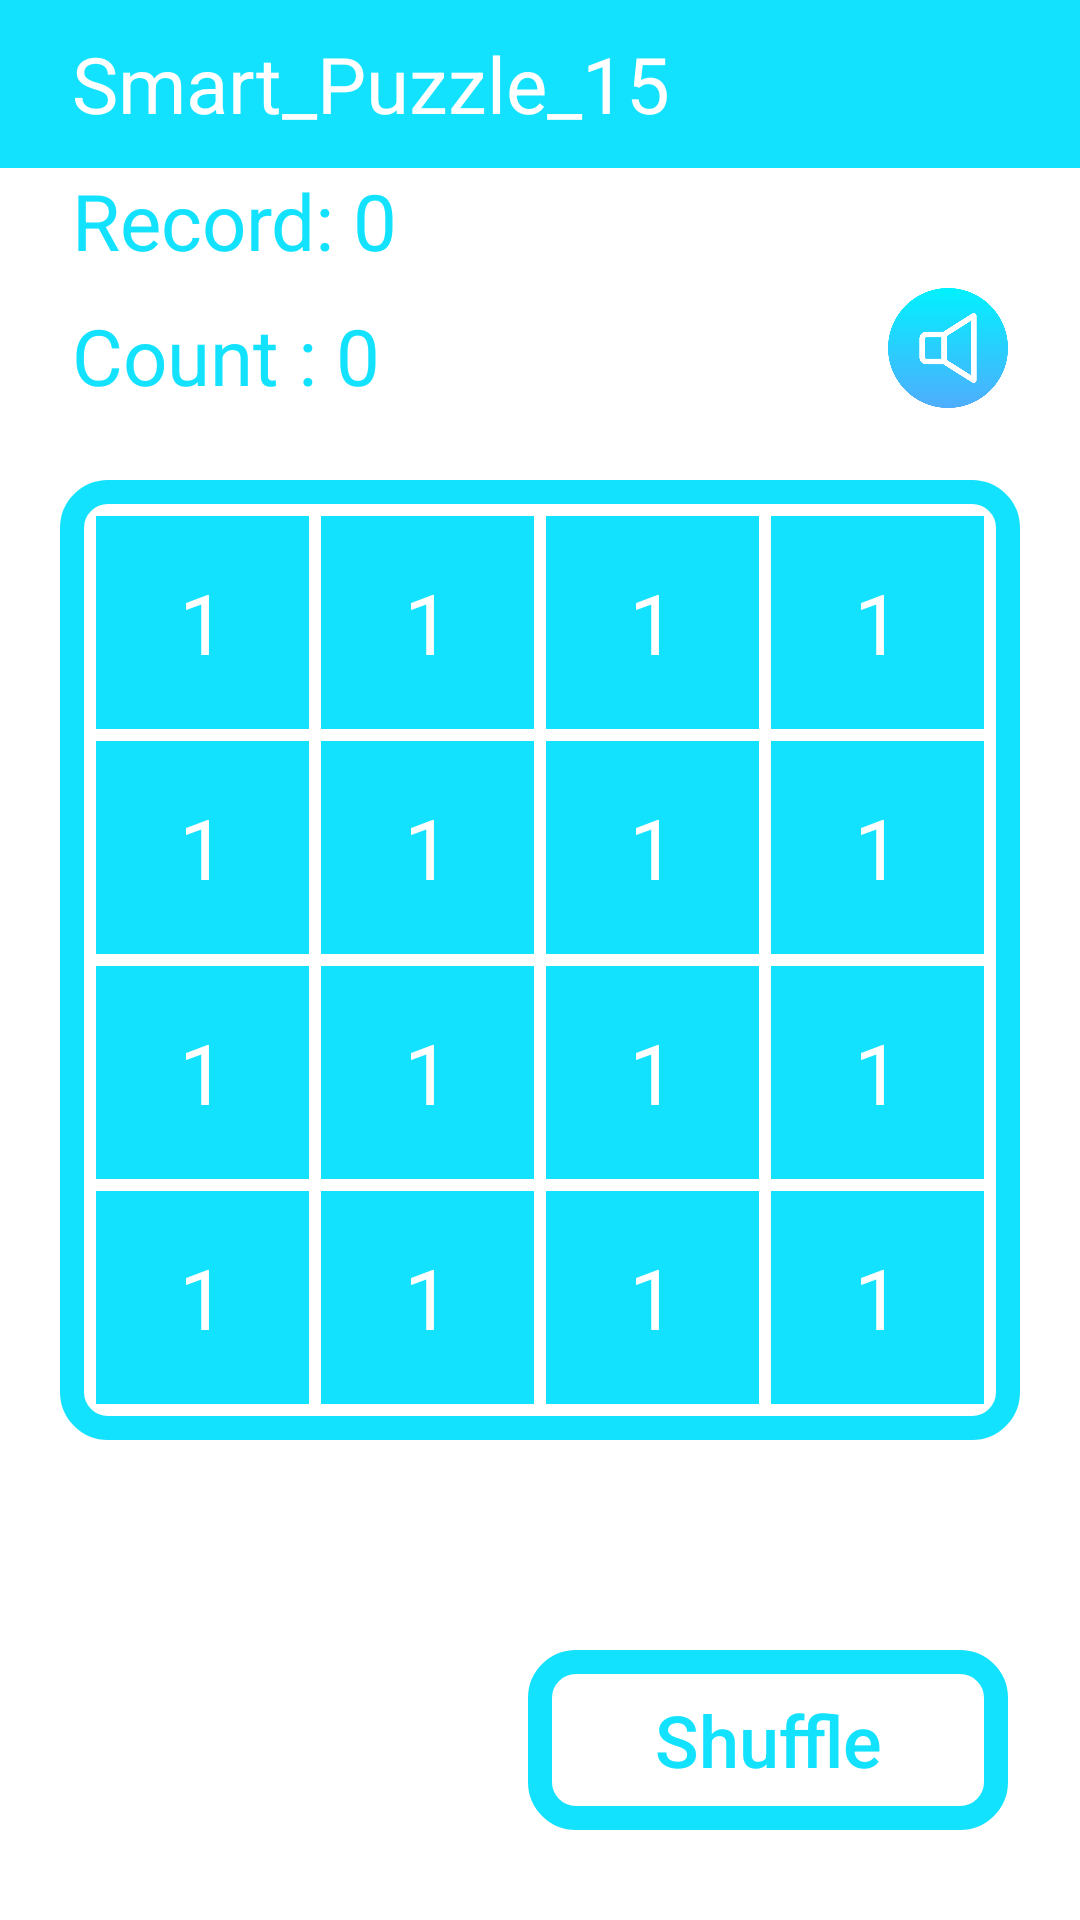

Icon click points for this 1080×1920 phone screenshot, format (x,y):
music: (948,348)
